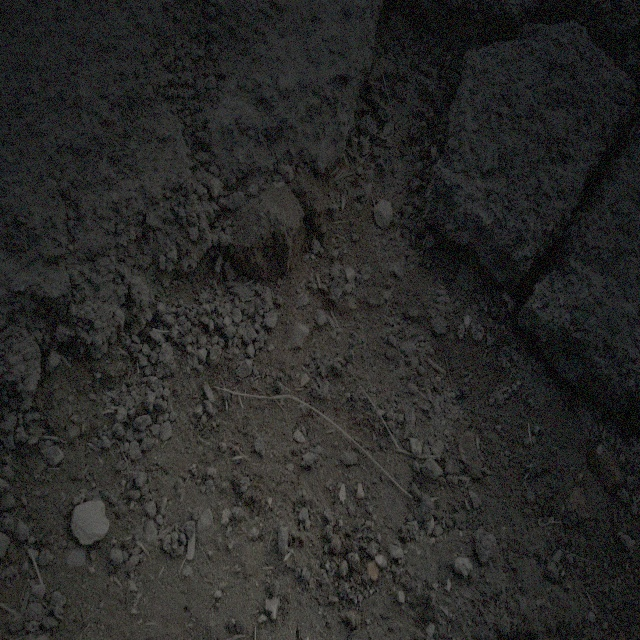pothole: (50, 147, 582, 436), (344, 10, 470, 227)
